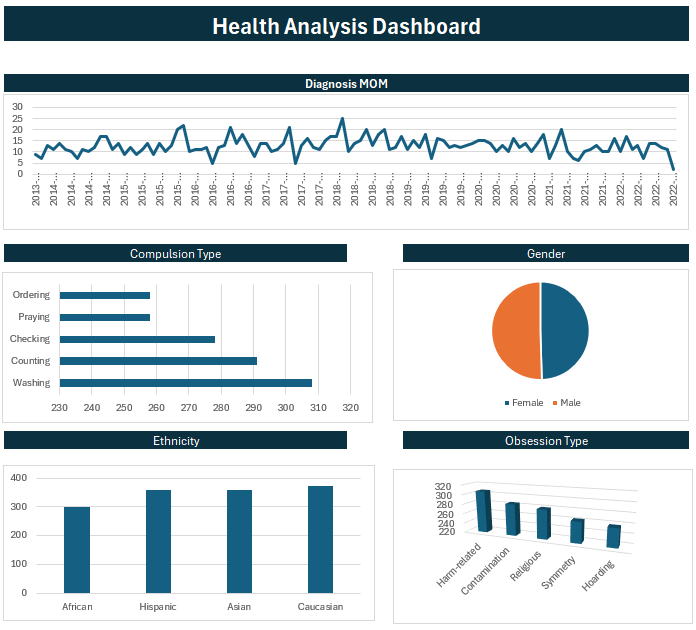

Layout of this report page (visuals, bound fields, positions):
{"tool":"powerbi","page":{"name":"Page 1","canvas":[1280,720],"ordinal":0},"visuals":[{"type":"textbox","box":[0,0,1280,48.6],"z":0},{"type":"lineChart","fields":{"Category":["diagnosis mom.Month"],"Y":["Sum(diagnosis mom.PatientCount)"]},"box":[4.3,58.6,1270,205.7],"z":1000},{"type":"donutChart","fields":{"Category":["gender.Gender"],"Y":["Sum(gender.patients)"]},"box":[10,284.3,428.6,207.1],"z":2000},{"type":"clusteredBarChart","fields":{"Category":["ethnicity.Ethnicity"],"Y":["Sum(ethnicity.patient_count)"],"Series":["ethnicity.patient_count"]},"box":[477.1,287.1,802.9,204.3],"z":3000},{"type":"columnChart","fields":{"Category":["compulsion_type.CompulsionType"],"Y":["Sum(compulsion_type.Patient_count)"]},"box":[23.3,501.7,511.7,206.7],"z":4000},{"type":"lineChart","fields":{"Category":["obs_type.ObsessionType"],"Y":["Sum(obs_type.Patient_count)","Sum(obs_type.Average_obsession)"]},"box":[535,502,745,207],"z":4001}]}

Visuals, with their boxes on the page's 1280x720 design canvas (x1, y1, x2, y2). These are canvas units, not pixel positions in the 696x630 screenshot, which may show the page scaled, cropped or inside an application window:
textbox: bbox=(0, 0, 1280, 49)
lineChart - diagnosis mom.Month x Sum(diagnosis mom.PatientCount): bbox=(4, 59, 1274, 264)
donutChart - gender.Gender x Sum(gender.patients): bbox=(10, 284, 439, 491)
clusteredBarChart - ethnicity.Ethnicity x Sum(ethnicity.patient_count): bbox=(477, 287, 1280, 491)
columnChart - compulsion_type.CompulsionType x Sum(compulsion_type.Patient_count): bbox=(23, 502, 535, 708)
lineChart - obs_type.ObsessionType x Sum(obs_type.Patient_count): bbox=(535, 502, 1280, 709)
